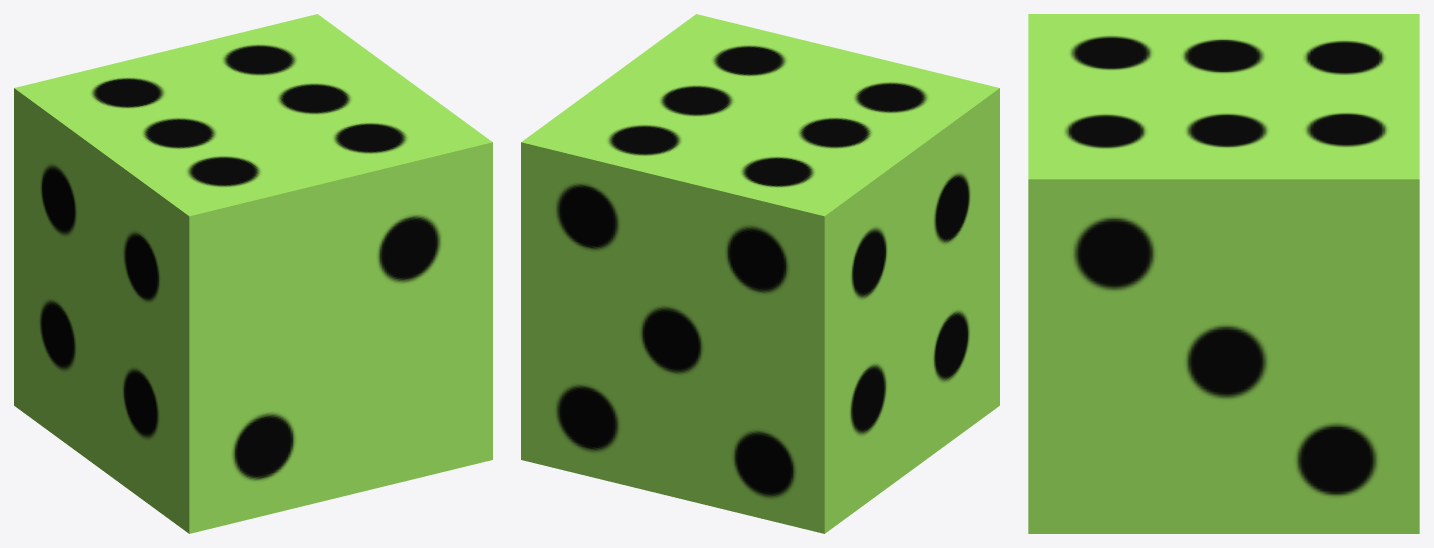
File: TransParentDice2.fbx
3 renders of one model, left to right at view 1: azimuth 30°, elevation 25°; view 2: azimuth 150°, elevation 25°; view 3: azimuth 270°, elevation 25°, orthographic. The views are drawn at different scales.
Visible parts, largest first — view 1: pCube3; view 2: pCube3; view 3: pCube3.
Boxes of the visible parts, x1,y1,x2,y2 form: pCube3: (14,14,492,533); pCube3: (521,14,999,533); pCube3: (1028,14,1419,533).
Size of the model in its own units: 1 by 1 by 1.
1 material, 1 textured.
